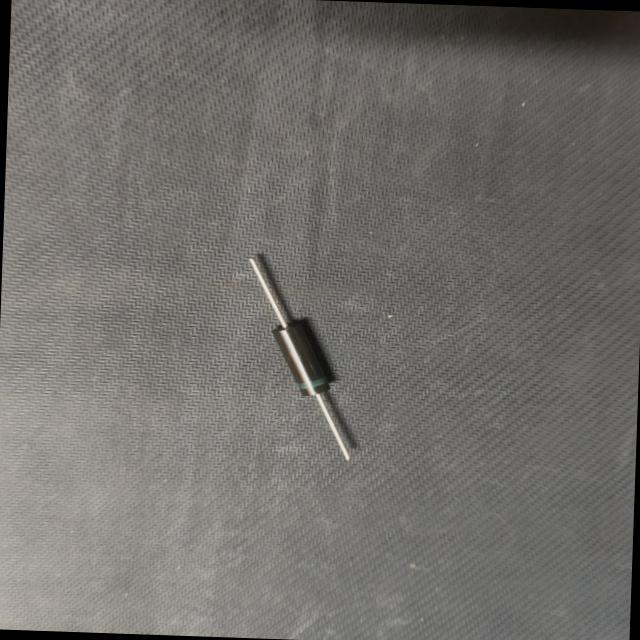resistor: (230, 246, 370, 466)
